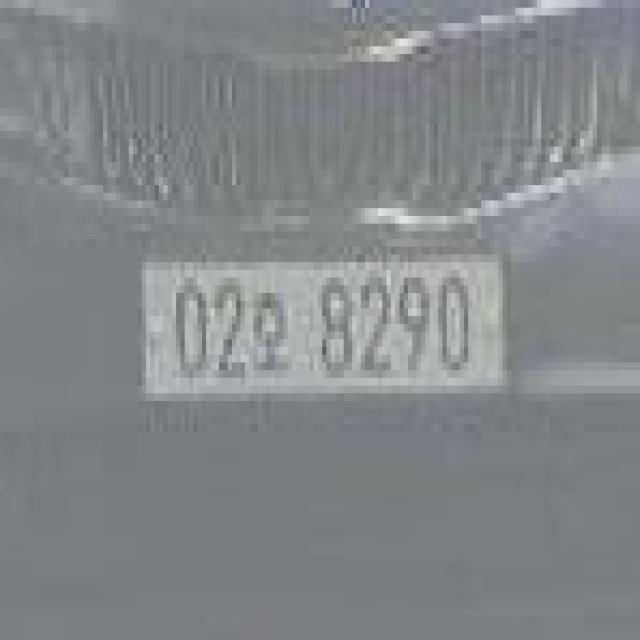illegal_plate: (137, 242, 510, 416)
